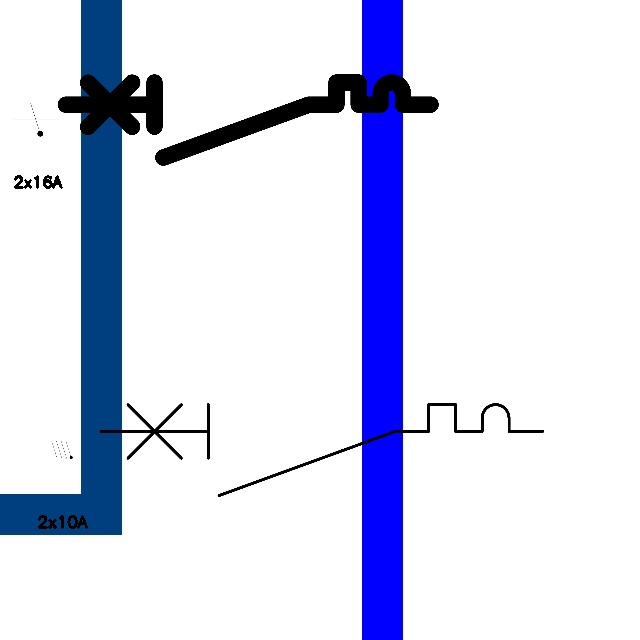interruptor_termomagnetico: (89, 393, 553, 506), (56, 73, 439, 167)
